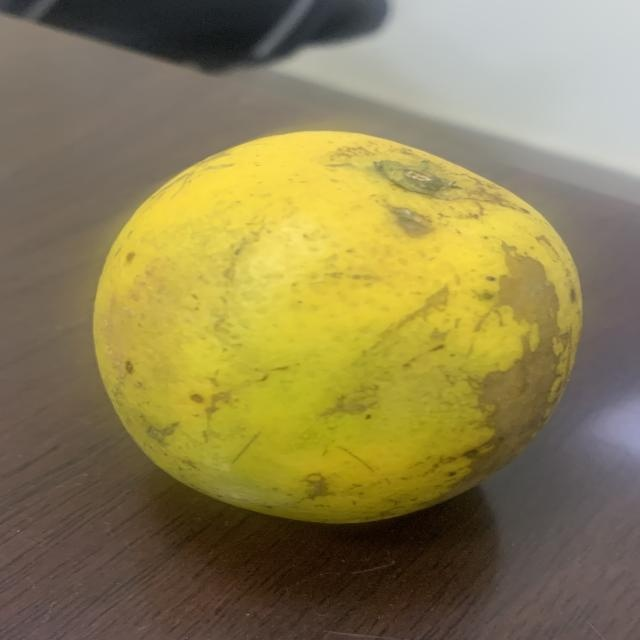agrume: (89, 121, 603, 539)
